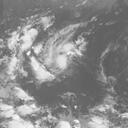cyclone: (36, 24, 90, 84)
